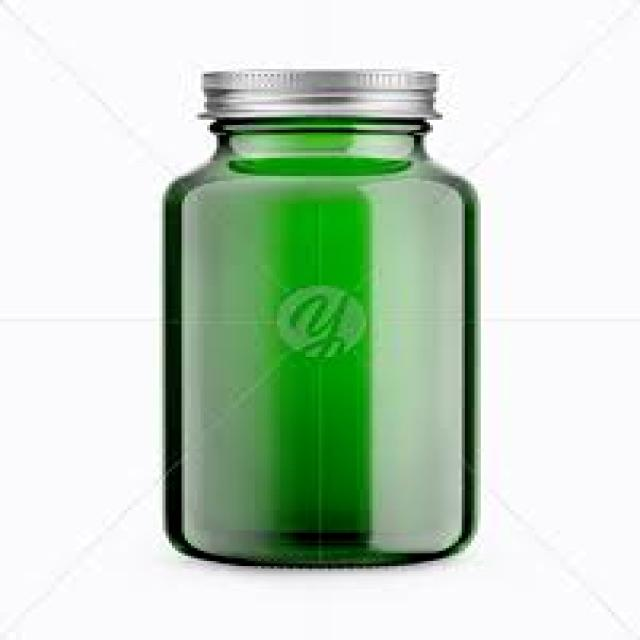Glass: (158, 62, 486, 570)
